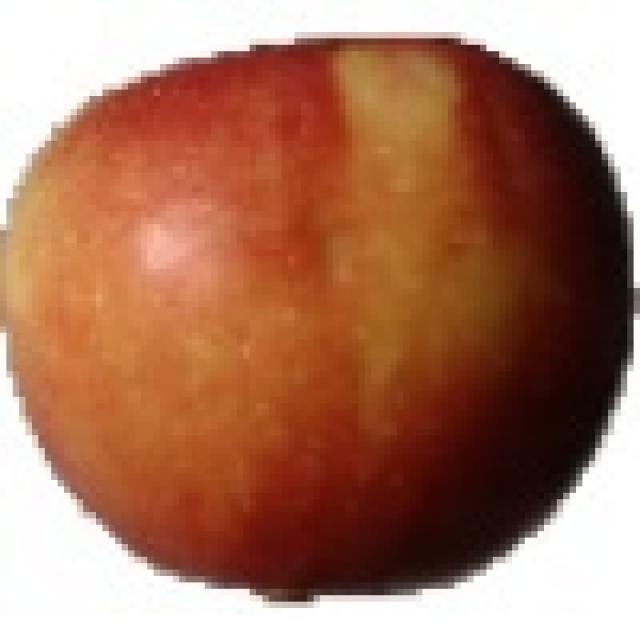apple: (9, 40, 630, 610)
